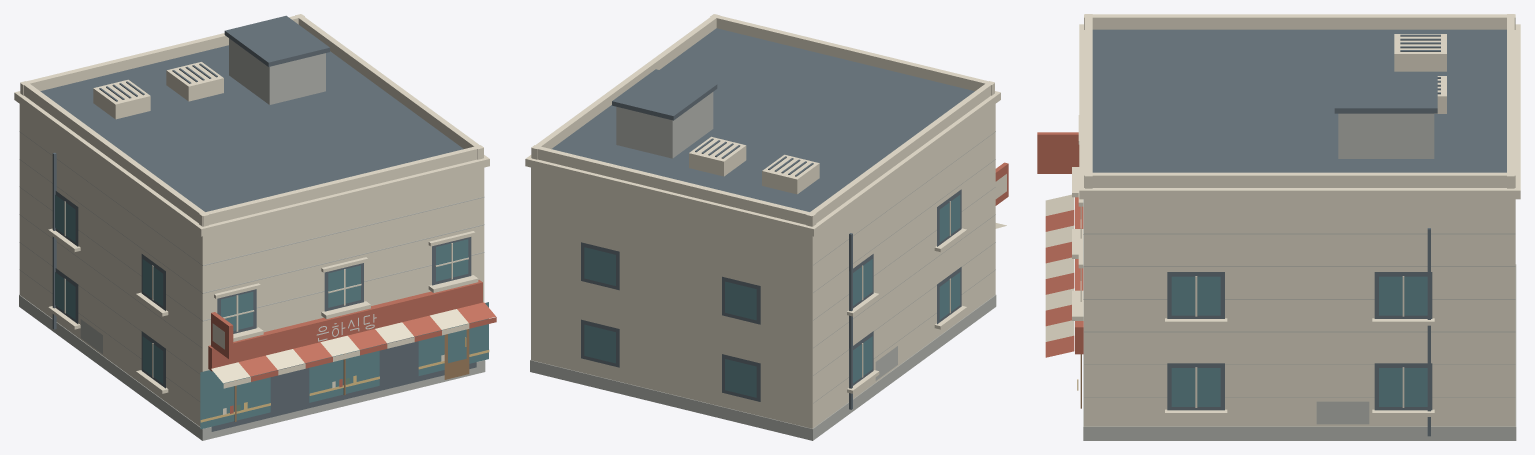
File: q01-diner.glb
3 views of the same model, side by side, from view 1: azimuth 30°, elevation 25°; view 2: azimuth 150°, elevation 25°; view 3: azimuth 270°, elevation 25° (orthographic). The views are drawn at different scales.
Size of the model in its own units: 8.34 by 7.01 by 10.07.
